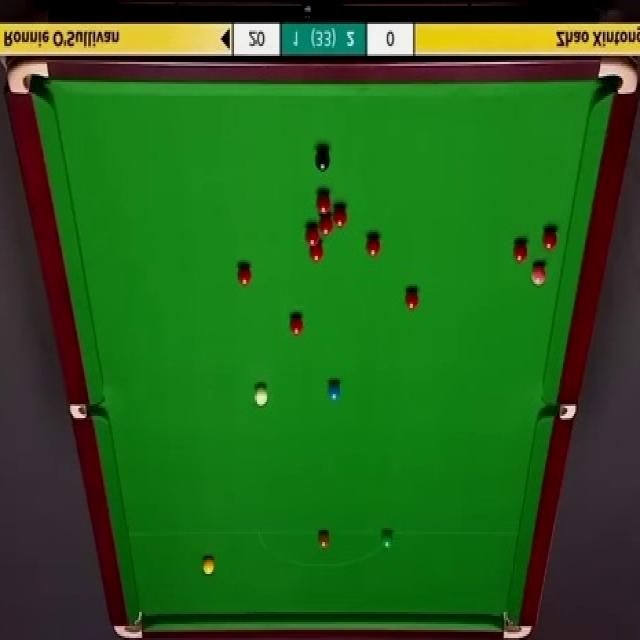black-ball: (314, 140, 332, 173)
blue-ball: (328, 381, 342, 402)
brown-ball: (316, 530, 329, 550)
green-ball: (380, 530, 396, 549)
pink-ball: (531, 266, 547, 285)
red-ball: (317, 190, 331, 217), (512, 242, 529, 264), (542, 228, 558, 251), (366, 235, 382, 258), (289, 314, 304, 338), (237, 264, 252, 287), (404, 290, 419, 312), (329, 210, 344, 232), (309, 242, 323, 264), (304, 229, 320, 247), (319, 215, 332, 237)
white-ball: (252, 384, 269, 408)
yellow-ball: (202, 554, 214, 575)
